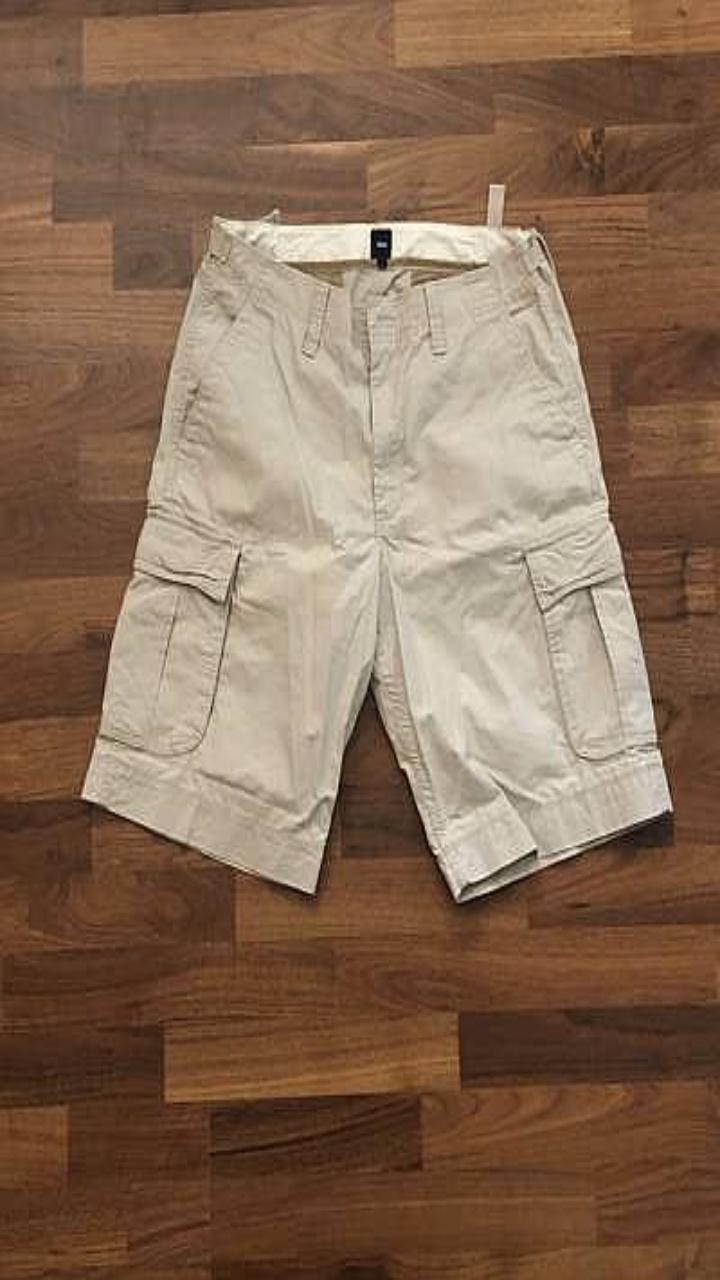Shorts: (82, 210, 672, 902)
